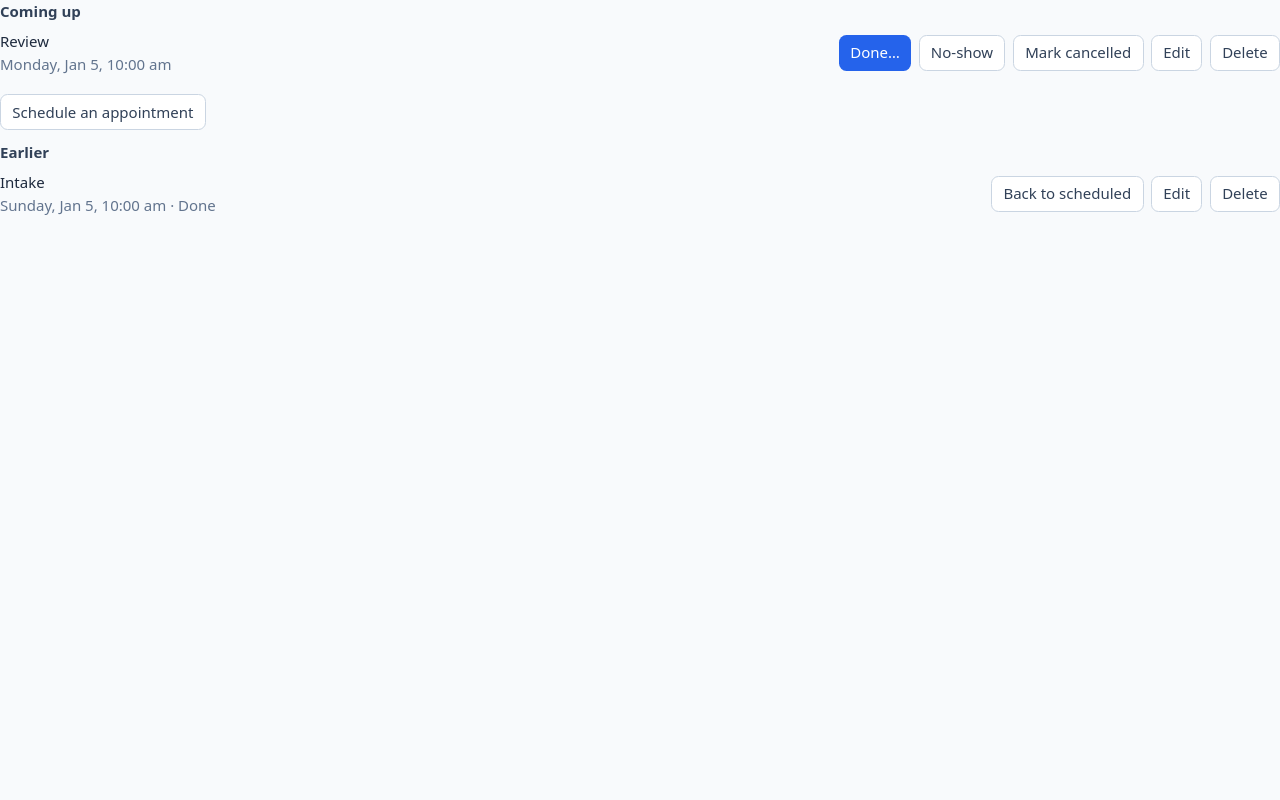
Scenario: profile appointments › shows what is coming up and what happened, and schedules for this record
Expected: the text "Review" is shown, [0, 31, 49, 51]
Expected: the text "Sunday, Jan 5, 10:00 am · Done" is shown, [0, 194, 216, 214]
Click the button "Schedule an appointment".
click(103, 112)  # box [0, 94, 206, 130]
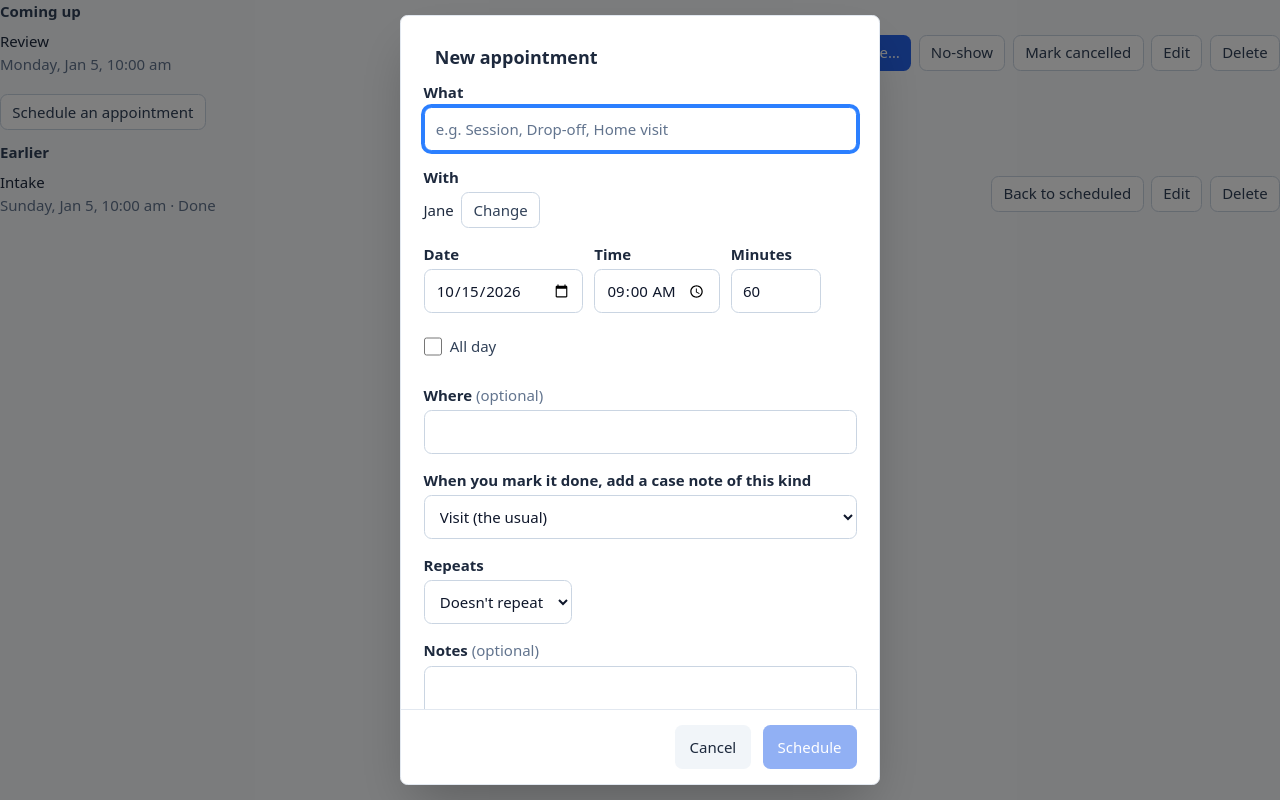
Now the heading "New appointment" is shown, box [435, 45, 598, 69]
Now the text "Jane" is shown, box [424, 199, 454, 221]
